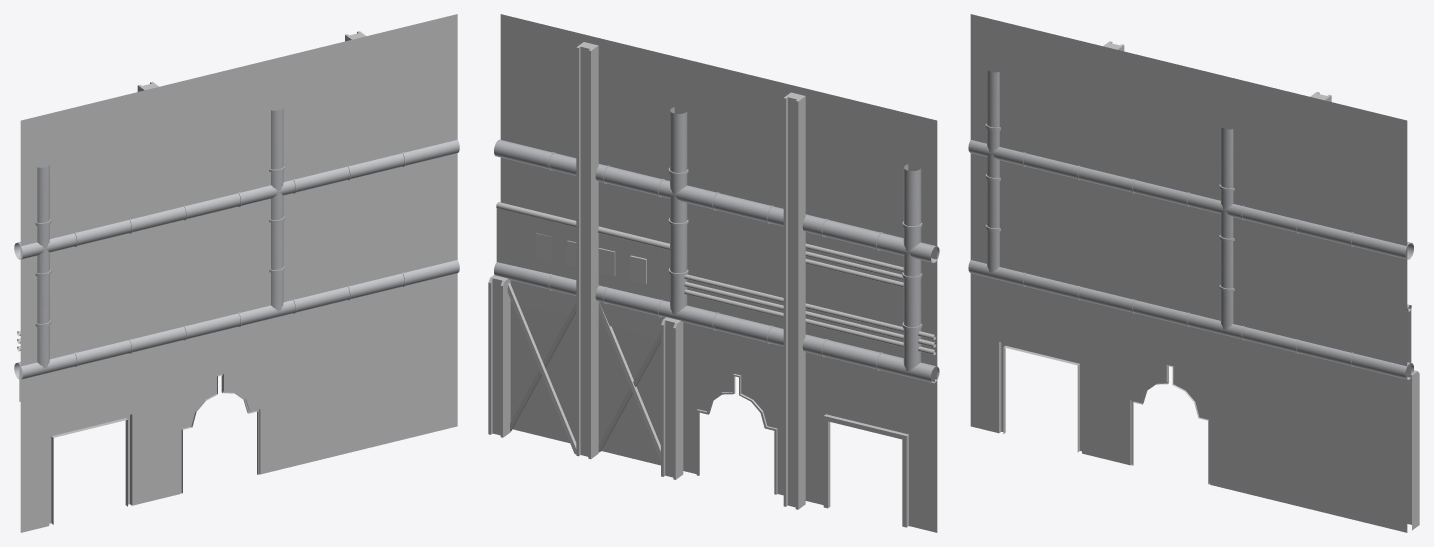
Rendered from side_wall.fbx.
3 views of the same model, side by side, from view 1: azimuth 30°, elevation 25°; view 2: azimuth 150°, elevation 25°; view 3: azimuth 330°, elevation 25° (orthographic).
Parts seen in each view (by area): view 1: Cube.121, Cube.124, Plane.035, Cube.134, Cube.130; view 2: Cube.121, Cube.124, Plane.035, Cylinder.126, Cube.139, Cube.140, Cube.137, Cube.144, Cube.134, Cylinder.133, Cylinder.135, Cylinder.130 (+10 smaller); view 3: Cube.121, Cube.124, Plane.035, Cube.144, Cube.134, Cube.130.
Boxes of the visible parts, x1,y1,x2,y2 form: Cube.121: [20, 14, 457, 372]; Cube.124: [20, 273, 457, 532]; Plane.035: [14, 108, 459, 379]; Cube.134: [49, 414, 132, 524]; Cube.130: [180, 374, 260, 493]; Cube.121: [500, 14, 937, 372]; Cube.124: [510, 303, 937, 532]; Plane.035: [494, 107, 939, 382]; Cylinder.126: [496, 208, 934, 404]; Cube.139: [783, 92, 805, 509]; Cube.140: [576, 42, 598, 459]; Cube.137: [661, 317, 683, 479]; Cube.144: [488, 274, 510, 437]; Cube.134: [823, 414, 908, 527]; Cylinder.133: [535, 233, 646, 283]; Cylinder.135: [684, 289, 936, 354]; Cylinder.130: [684, 282, 936, 347]; Cube.121: [970, 14, 1407, 372]; Cube.124: [970, 273, 1407, 532]; Plane.035: [968, 69, 1413, 379]; Cube.144: [1407, 370, 1419, 530]; Cube.134: [999, 342, 1081, 452]; Cube.130: [1130, 364, 1210, 484].
Size of the model in its own units: 3804 by 3423 by 208.
